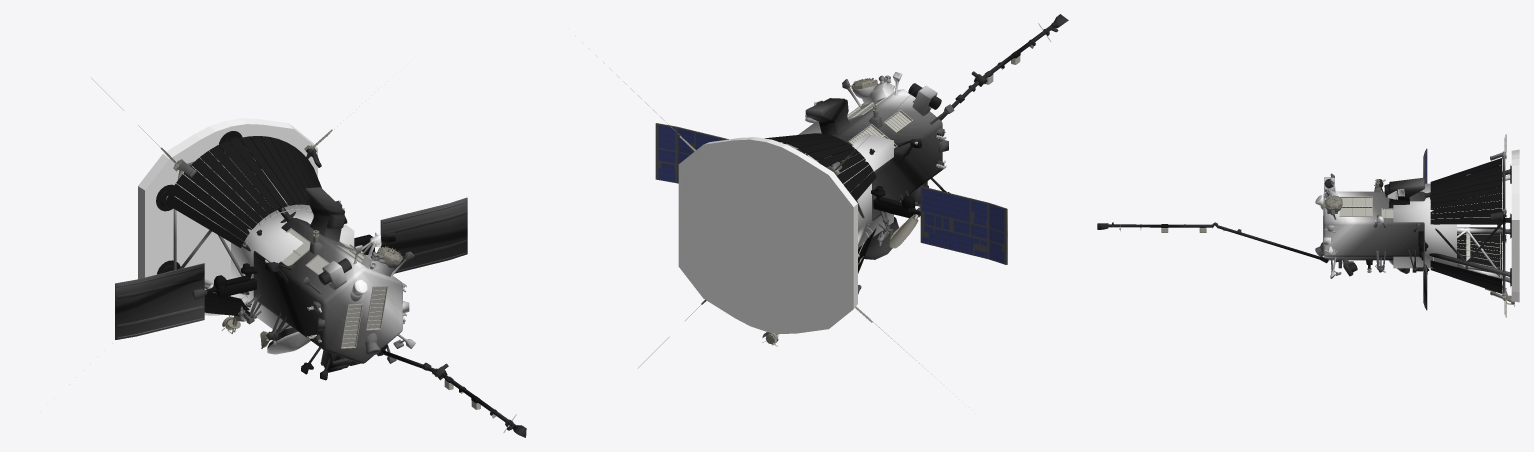
The model's file is parker.glb.
The picture shows the model from 3 angles, left to right: view 1: azimuth 30°, elevation 25°; view 2: azimuth 150°, elevation 25°; view 3: azimuth 270°, elevation 25°; orthographic projection. The views are drawn at different scales.
Visible parts, largest first — view 1: Cylinder.008, Cylinder.088, Cylinder.053, Cube.027, Cylinder.028, Cylinder.128, Cylinder.056; view 2: Cylinder.053, Cylinder.008, Cylinder.088, Cube.027, Cylinder.028, Cylinder.128; view 3: Cylinder.008, Cylinder.088, Cube.027, Cylinder.053, Cylinder.028.
Part boxes in pixels (x1=…): Cylinder.008: x1=115, y1=143, x2=526, y2=437; Cylinder.088: x1=156, y1=131, x2=321, y2=317; Cylinder.053: x1=115, y1=118, x2=466, y2=348; Cube.027: x1=231, y1=203, x2=354, y2=330; Cylinder.028: x1=69, y1=67, x2=516, y2=432; Cylinder.128: x1=206, y1=234, x2=382, y2=297; Cylinder.056: x1=267, y1=331, x2=310, y2=354; Cylinder.053: x1=655, y1=78, x2=1006, y2=346; Cylinder.008: x1=656, y1=14, x2=1068, y2=294; Cylinder.088: x1=765, y1=133, x2=876, y2=273; Cube.027: x1=785, y1=121, x2=893, y2=247; Cylinder.028: x1=575, y1=23, x2=1051, y2=421; Cylinder.128: x1=871, y1=186, x2=920, y2=218; Cylinder.008: x1=1097, y1=148, x2=1510, y2=310; Cylinder.088: x1=1430, y1=158, x2=1511, y2=293; Cube.027: x1=1393, y1=183, x2=1456, y2=268; Cylinder.053: x1=1324, y1=134, x2=1519, y2=317; Cylinder.028: x1=1119, y1=165, x2=1512, y2=304.
Bounding box in the file's own units: 5.75 × 5.26 × 6.61.
Materials: 6 (2 with a texture image).
